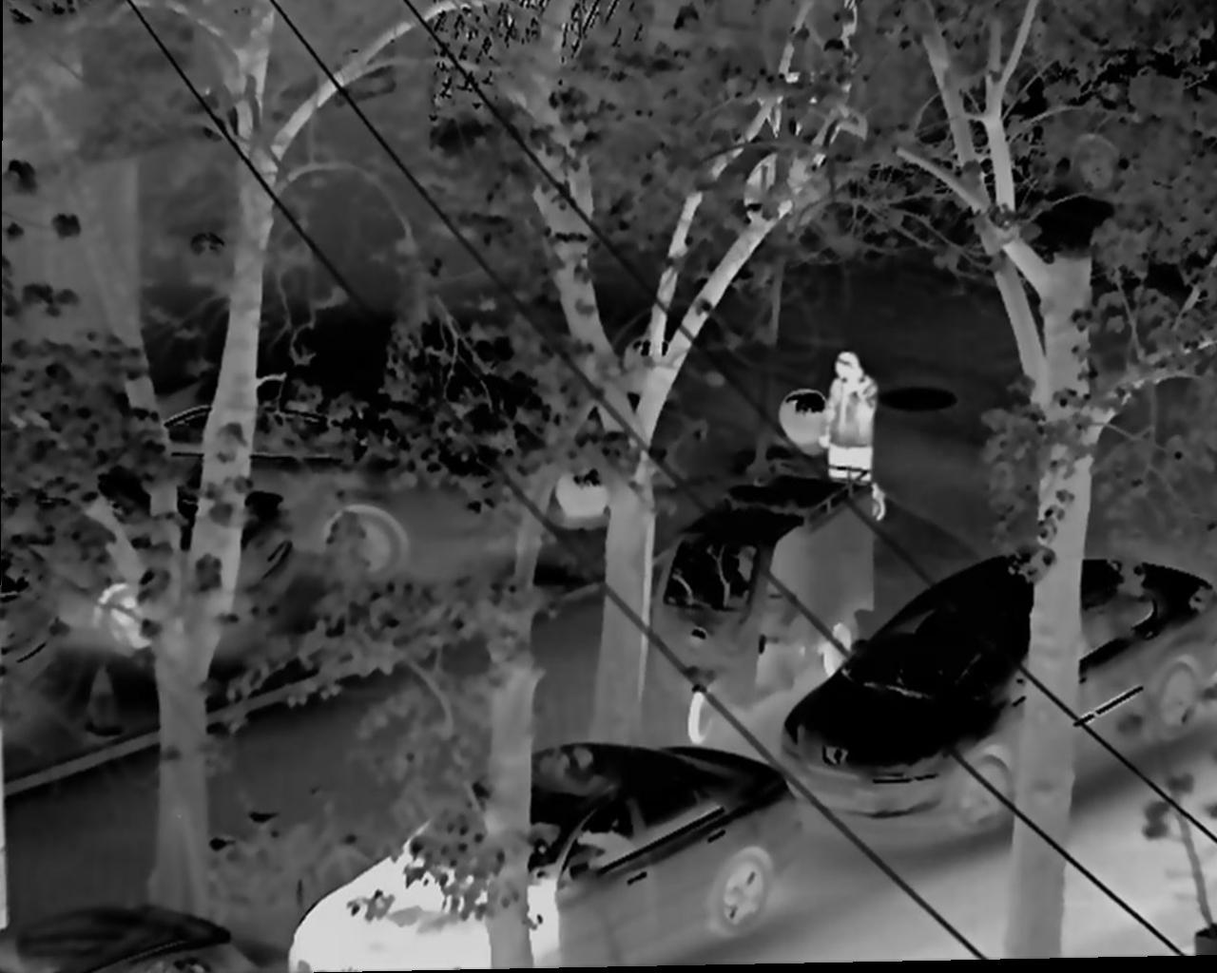person: (806, 348, 891, 533)
